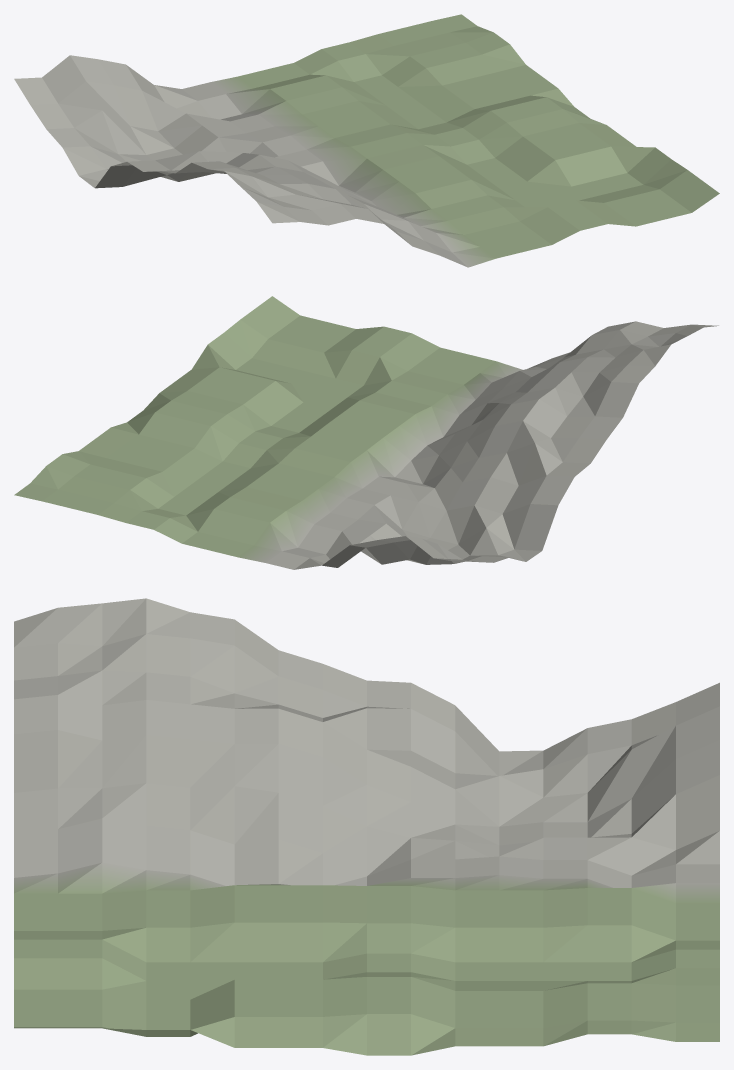
3 views of the same model, one above another, from view 1: azimuth 30°, elevation 25°; view 2: azimuth 150°, elevation 25°; view 3: azimuth 270°, elevation 25° (orthographic). The views are drawn at different scales.
Bounding box in the file's own units: 32 × 8.63 × 32.
